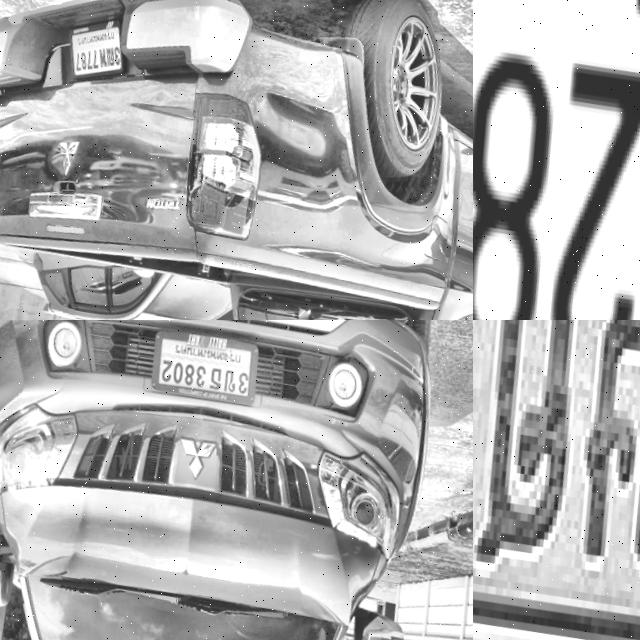license-plate: (473, 0, 640, 320), (473, 320, 640, 640), (143, 327, 257, 413), (58, 14, 131, 88)
